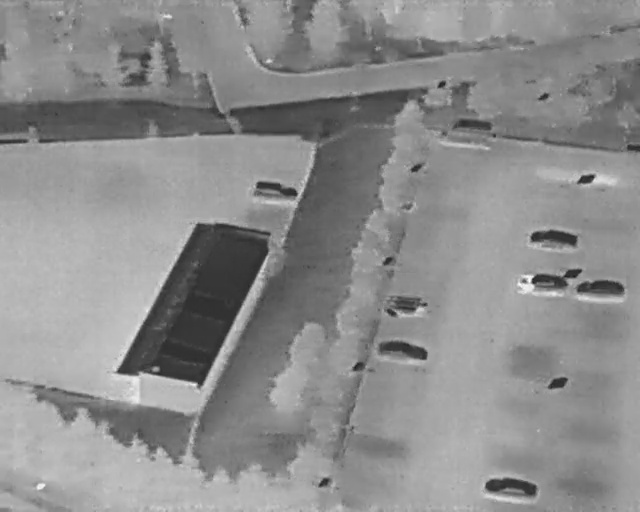Car: (438, 116, 495, 150), (482, 472, 540, 500), (527, 225, 580, 255), (375, 336, 429, 363), (251, 179, 299, 203), (516, 273, 568, 295), (384, 293, 429, 318), (575, 278, 625, 300)
